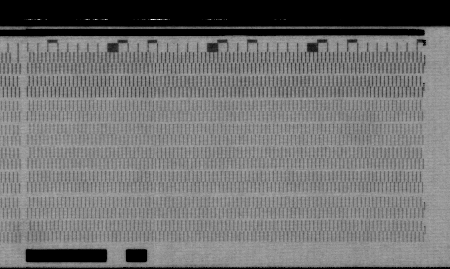Broken hole: (9, 53, 21, 64)
Oblique printing: (418, 219, 432, 233), (419, 195, 431, 211), (418, 76, 430, 91), (419, 51, 430, 67)
